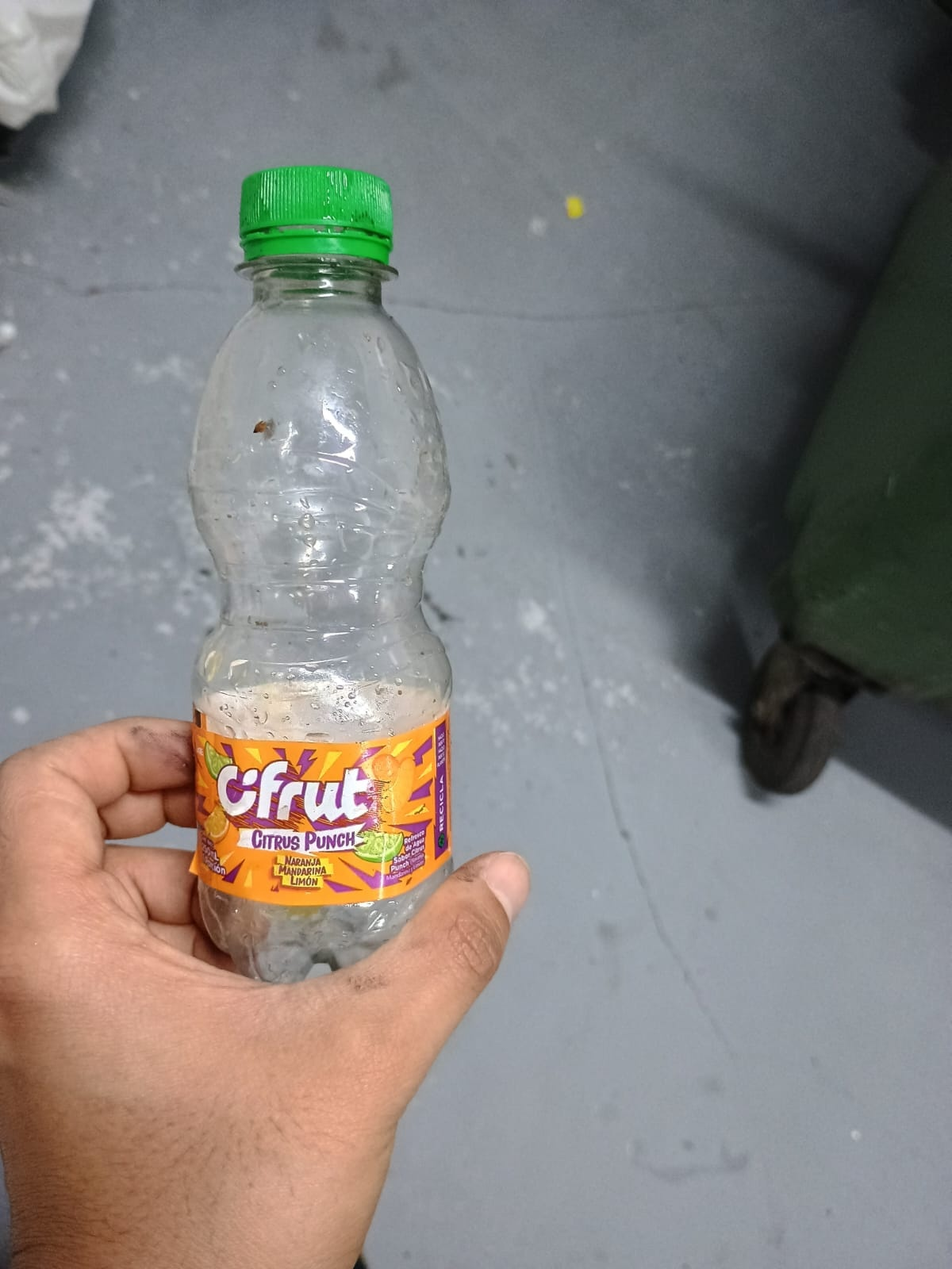Plastico: (182, 165, 453, 981)
